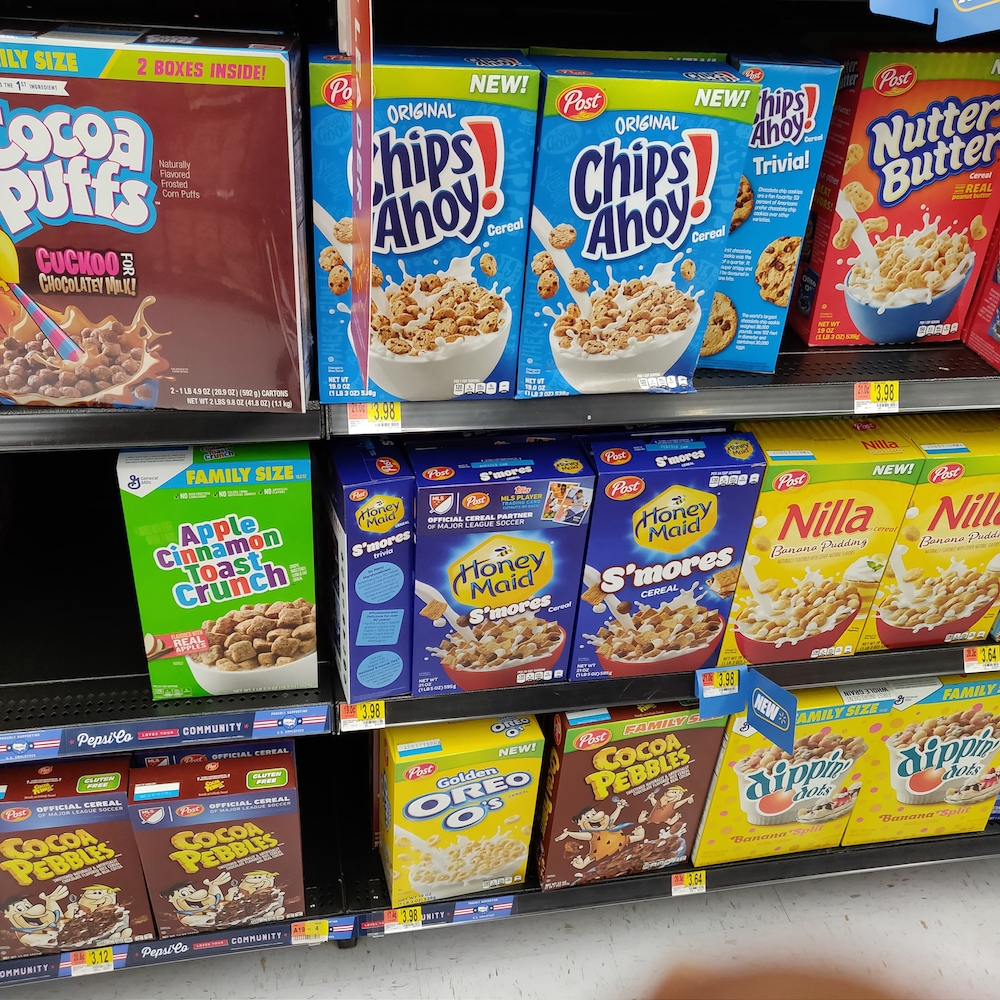Chips Ahoys-565717529: (525, 80, 755, 398), (318, 70, 516, 399)
Cocoa Pebbles-555517893: (115, 783, 320, 932), (557, 712, 717, 886), (1, 779, 135, 934)
Dippin Dots Banana-568929376: (725, 704, 867, 854), (857, 698, 1000, 836)
Honey Maid Graham -563424385: (587, 465, 740, 681), (419, 488, 578, 678)
Nilla -568301014: (742, 461, 911, 648), (868, 461, 1000, 651)
Nutter Butter-565717511: (812, 78, 1000, 355)
Oreo Golden-568301011: (389, 750, 539, 911)
